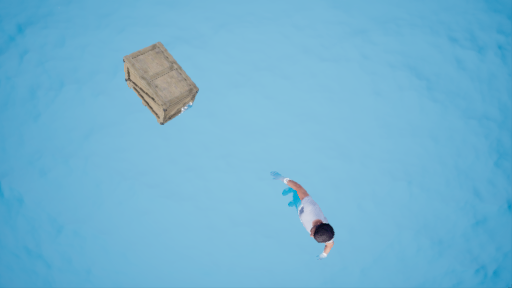person: (267, 172, 338, 261)
